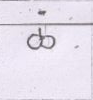anusvara: (39, 11, 45, 16)
